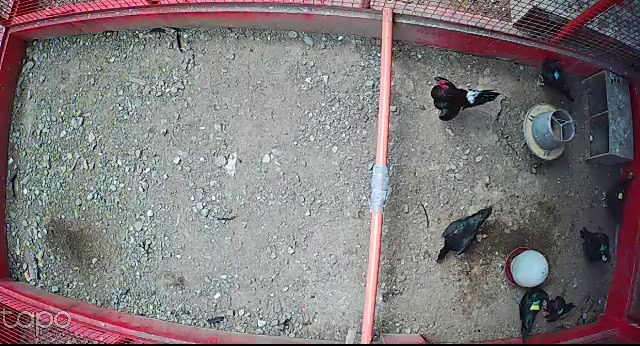Chicken: (435, 203, 494, 262), (510, 283, 552, 346), (601, 173, 637, 236), (534, 56, 576, 101), (578, 226, 614, 264), (544, 292, 574, 326)
Feeder: (523, 105, 577, 161)
Rooster: (430, 74, 504, 122)
Saddle_Color_Blue: (552, 69, 559, 79)
Saddle_Color_Yellow: (617, 192, 623, 200)
Saddle_Color_YellowGreen: (529, 298, 542, 312)
